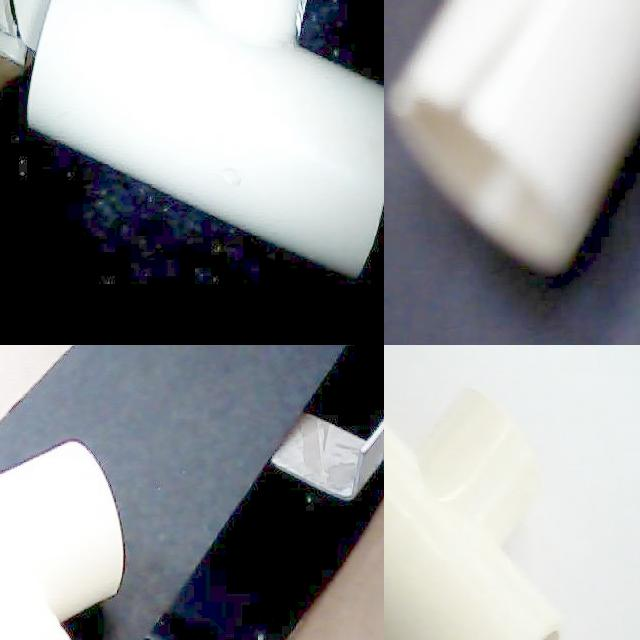Defective: (435, 20, 536, 167), (0, 0, 33, 50)
T Joint: (26, 0, 384, 281), (384, 388, 563, 640), (0, 442, 124, 640)
